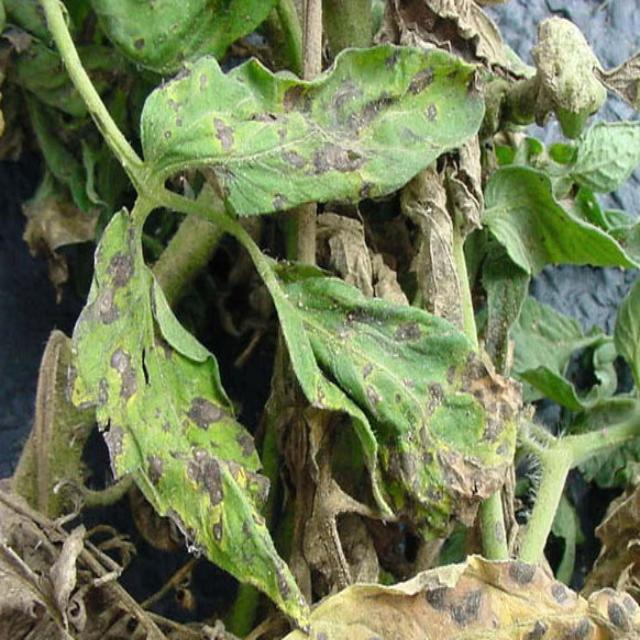Late_blight: (1, 493, 234, 640), (288, 554, 640, 640), (284, 403, 381, 582), (403, 127, 484, 332), (263, 69, 399, 177), (532, 14, 640, 120), (382, 447, 509, 536), (445, 339, 540, 453), (374, 1, 512, 67), (17, 193, 99, 301), (313, 215, 403, 308), (586, 475, 640, 597), (81, 237, 142, 330), (1, 23, 39, 166), (171, 441, 224, 508), (95, 343, 143, 409), (230, 436, 272, 505), (178, 391, 234, 435), (92, 417, 124, 478), (205, 118, 240, 157), (417, 375, 442, 427), (153, 63, 193, 92), (406, 62, 438, 98), (145, 447, 165, 490), (153, 333, 178, 363)
